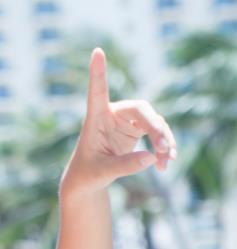up: (56, 35, 179, 196)
